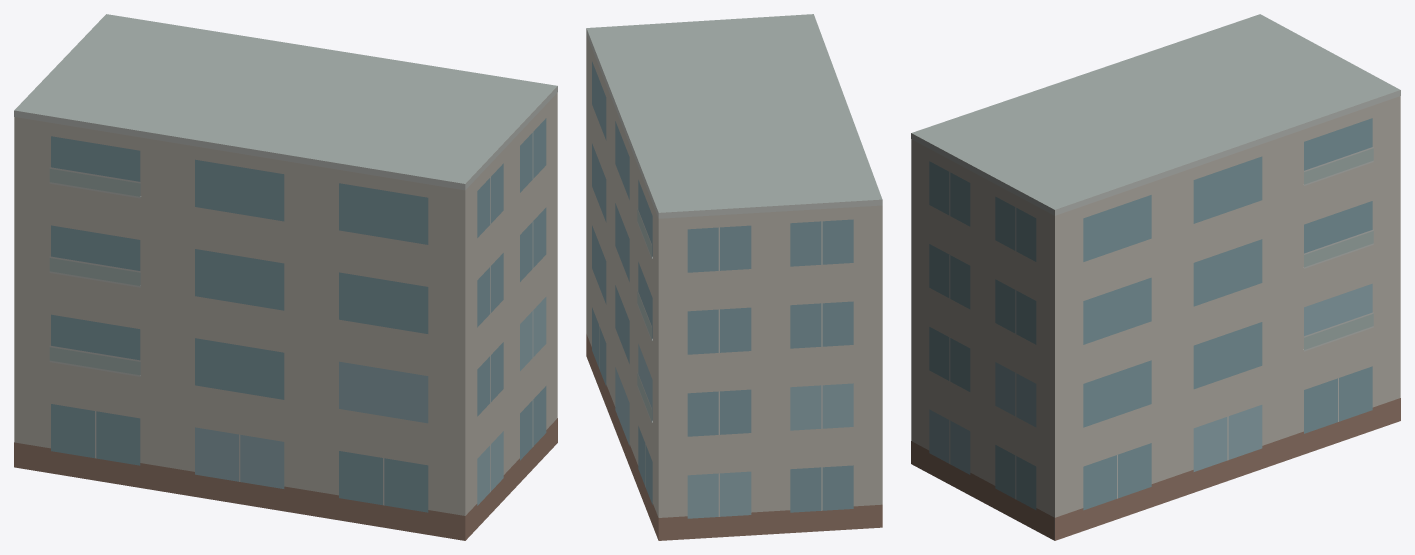
File: survey-upis-32965553.glb
3 views of the same model, side by side, from view 1: azimuth 30°, elevation 25°; view 2: azimuth 150°, elevation 25°; view 3: azimuth 270°, elevation 25° (orthographic). The views are drawn at different scales.
Visible parts, largest first — view 1: survey-upis-32965553.tmp; view 2: survey-upis-32965553.tmp; view 3: survey-upis-32965553.tmp.
Boxes of the visible parts, bbox=[...] form: survey-upis-32965553.tmp: bbox=[14, 14, 557, 540]; survey-upis-32965553.tmp: bbox=[586, 14, 882, 540]; survey-upis-32965553.tmp: bbox=[911, 14, 1400, 540].
Size of the model in its own units: 17.21 by 13.55 by 18.17.
